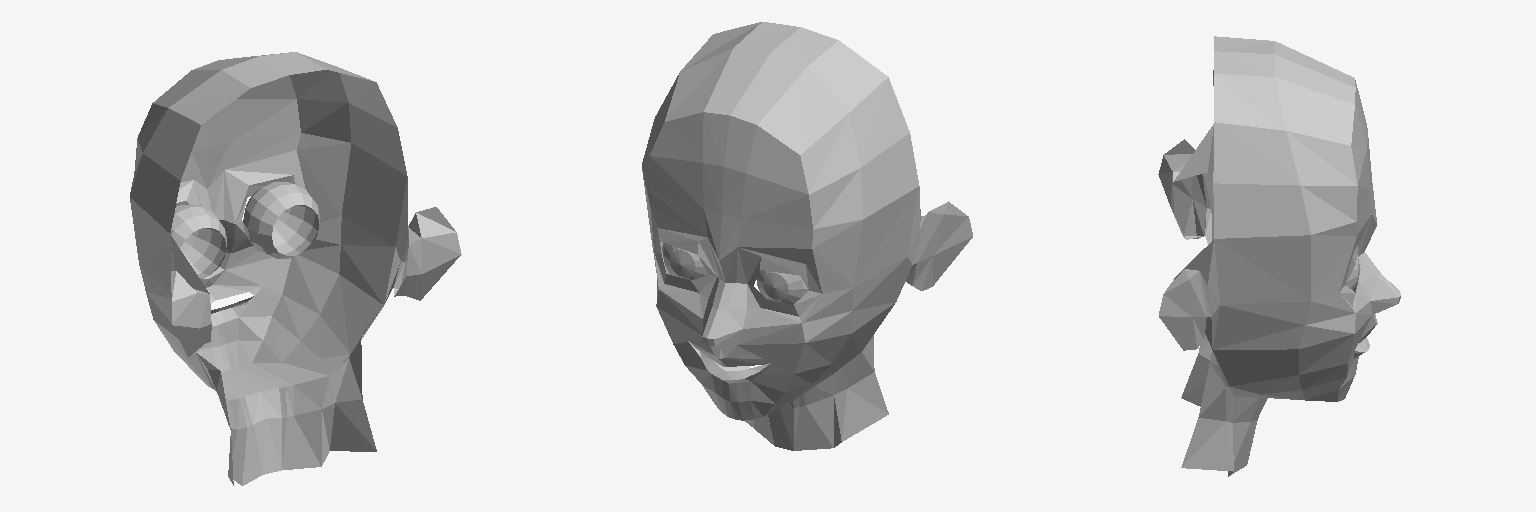
File: happy.obj
3 renders of one model, left to right at view 1: azimuth 30°, elevation 25°; view 2: azimuth 150°, elevation 25°; view 3: azimuth 270°, elevation 25°, orthographic.
Parts seen in each view (by area): view 1: body_Cylinder.001; view 2: body_Cylinder.001; view 3: body_Cylinder.001.
Part boxes in pixels (bbox=[...]): body_Cylinder.001: bbox=[130, 52, 461, 485]; body_Cylinder.001: bbox=[642, 22, 972, 450]; body_Cylinder.001: bbox=[1158, 36, 1400, 476].
Bounding box in the file's own units: 139 × 188 × 101.